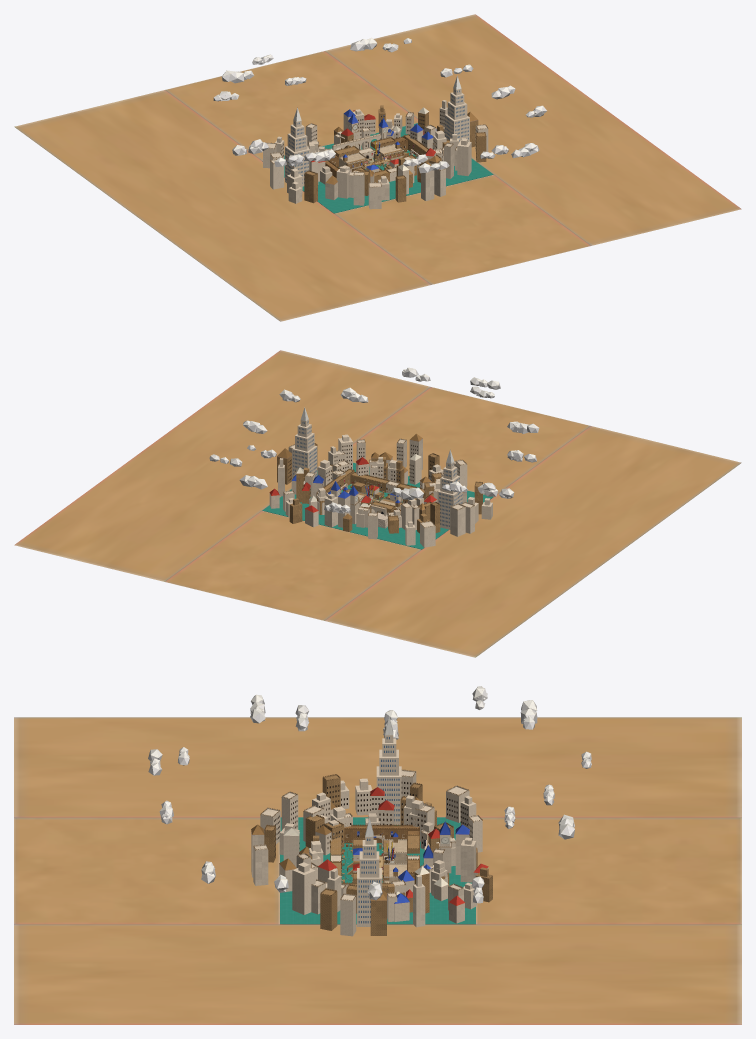
The model's file is desktown_perf.glb.
3 renders of one model, top to bottom at view 1: azimuth 30°, elevation 25°; view 2: azimuth 150°, elevation 25°; view 3: azimuth 270°, elevation 25°, orthographic. The views are drawn at different scales.
Parts seen in each view (by area): view 1: desktown_far_print, desktown_far_paper, desktown_far_kraft, desktown_play_kraft, desktown_far_mat, desktown_play_paper, desktown_play_print; view 2: desktown_far_print, desktown_far_paper, desktown_far_kraft, desktown_far_mat, desktown_play_kraft, desktown_far_edge; view 3: desktown_far_print, desktown_far_paper, desktown_far_kraft, desktown_far_mat, desktown_play_kraft, desktown_far_edge, desktown_play_paper, desktown_play_print.
Part boxes in pixels (box(x1,y1,x2,y2)): desktown_far_print: box(14, 14, 741, 321); desktown_far_paper: box(263, 88, 488, 209); desktown_far_kraft: box(304, 105, 486, 203); desktown_play_kraft: box(325, 134, 441, 182); desktown_far_mat: box(262, 123, 493, 213); desktown_play_paper: box(332, 144, 422, 181); desktown_play_print: box(332, 138, 421, 176); desktown_far_print: box(14, 350, 741, 657); desktown_far_paper: box(269, 419, 492, 547); desktown_far_kraft: box(277, 443, 482, 533); desktown_far_mat: box(262, 462, 493, 549); desktown_play_kraft: box(316, 469, 433, 514); desktown_far_edge: box(283, 438, 482, 527); desktown_far_print: box(14, 686, 741, 1024); desktown_far_paper: box(251, 735, 488, 936); desktown_far_kraft: box(264, 774, 492, 935); desktown_far_mat: box(280, 817, 475, 923); desktown_play_kraft: box(331, 824, 419, 892); desktown_far_edge: box(253, 769, 482, 901); desktown_play_paper: box(331, 834, 419, 883); desktown_play_print: box(332, 826, 419, 883).
Bounding box in the file's own units: 520 × 85.12 × 520.
Materials: 5 (5 with a texture image).
